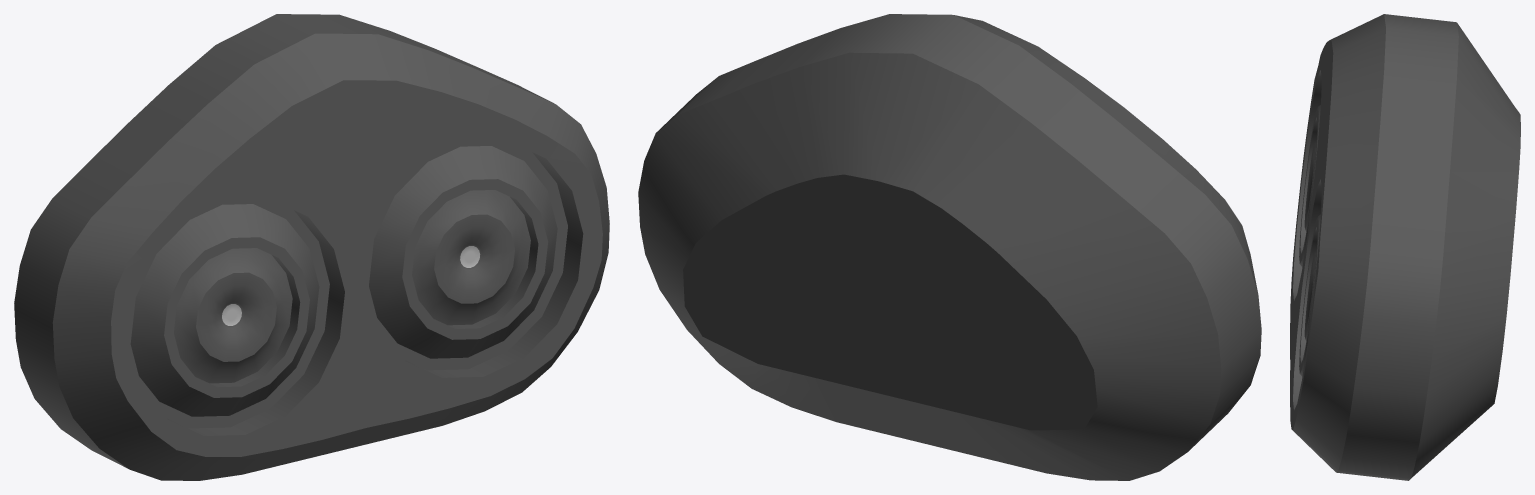
File: cycle-horn.glb
3 views of the same model, side by side, from view 1: azimuth 30°, elevation 25°; view 2: azimuth 150°, elevation 25°; view 3: azimuth 270°, elevation 25° (orthographic). The views are drawn at different scales.
Visible parts, largest first — view 1: Horn; view 2: Horn; view 3: Horn.
Part boxes in pixels (bbox=[...]): Horn: bbox=[14, 14, 609, 480]; Horn: bbox=[638, 14, 1261, 480]; Horn: bbox=[1290, 14, 1520, 480].
Size of the model in its own units: 0.1809 by 0.1262 by 0.0691.
1 material, 1 textured.
